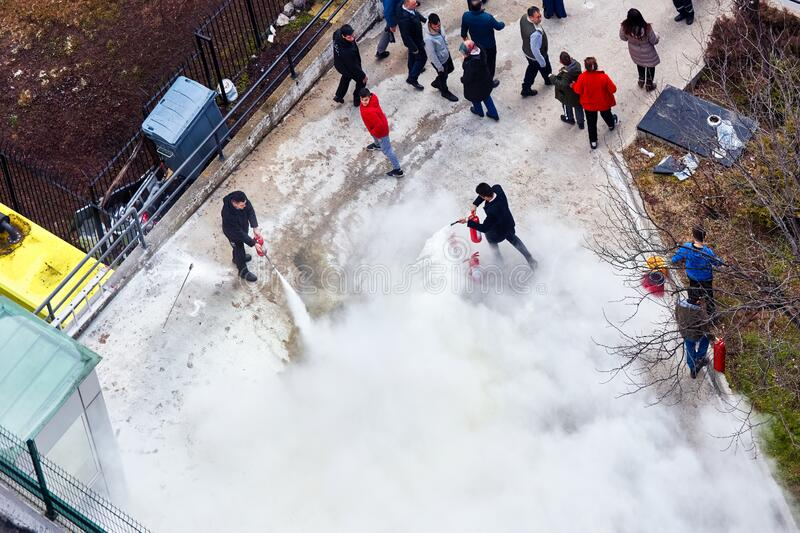fire_extinguisher: (712, 336, 726, 373), (467, 209, 481, 243), (253, 230, 266, 257)
